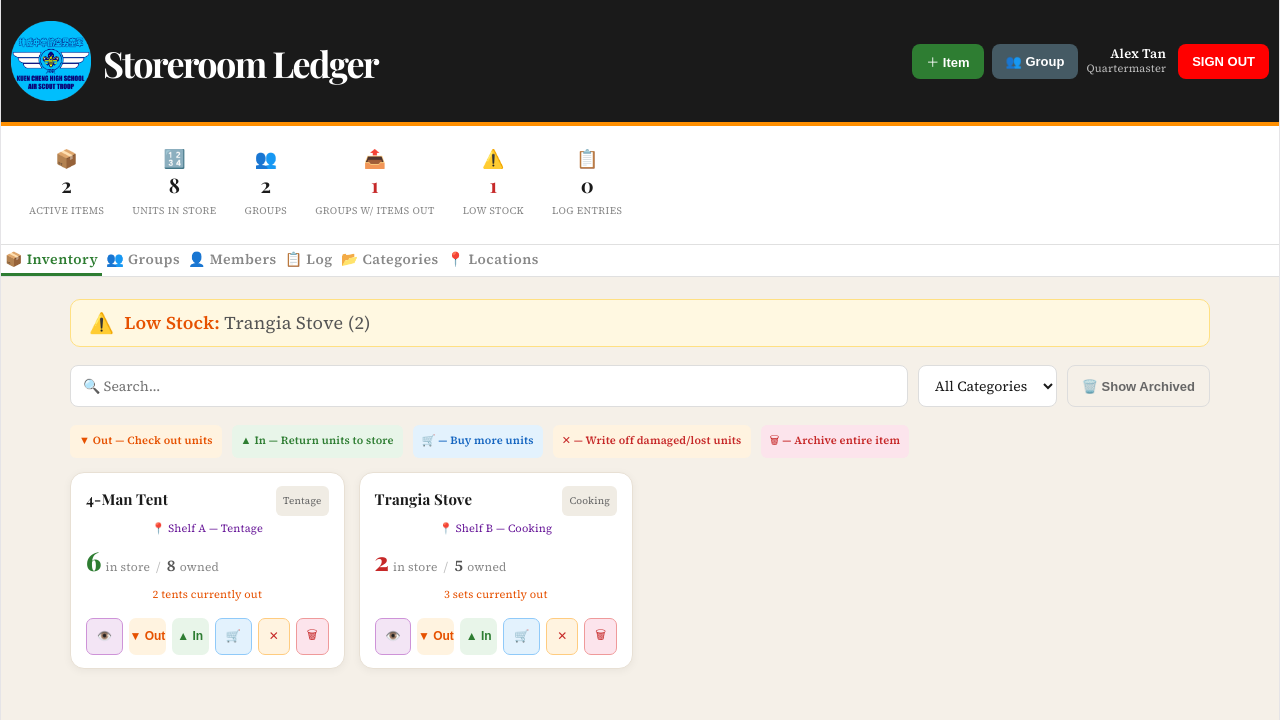
Test: inventory card opens the right modal › opens Archive Item
The image size is (1280, 720).
Expected: the heading "4-Man Tent" is shown, [86, 486, 168, 512]
Click the button titled "archive entire item" below "tents". click: point(312, 636)
box: [296, 618, 328, 655]
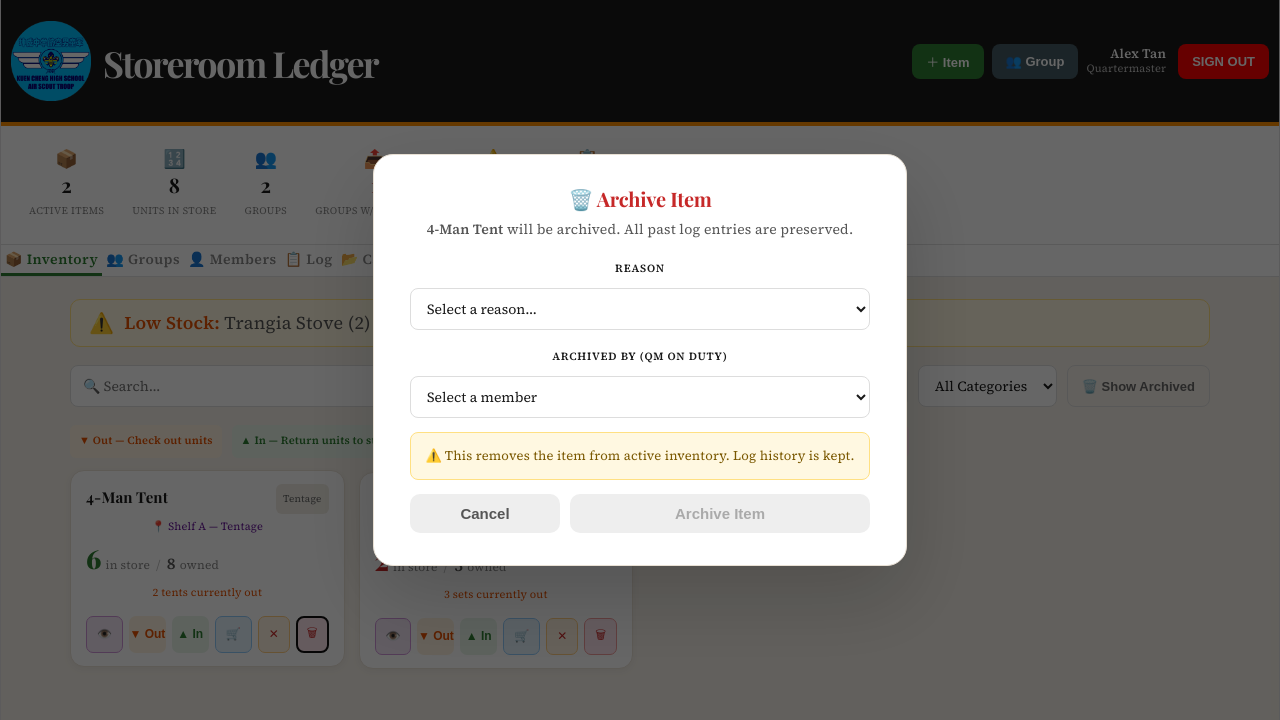
Now the heading "🗑️ Archive Item" is shown, box [568, 185, 712, 212]
